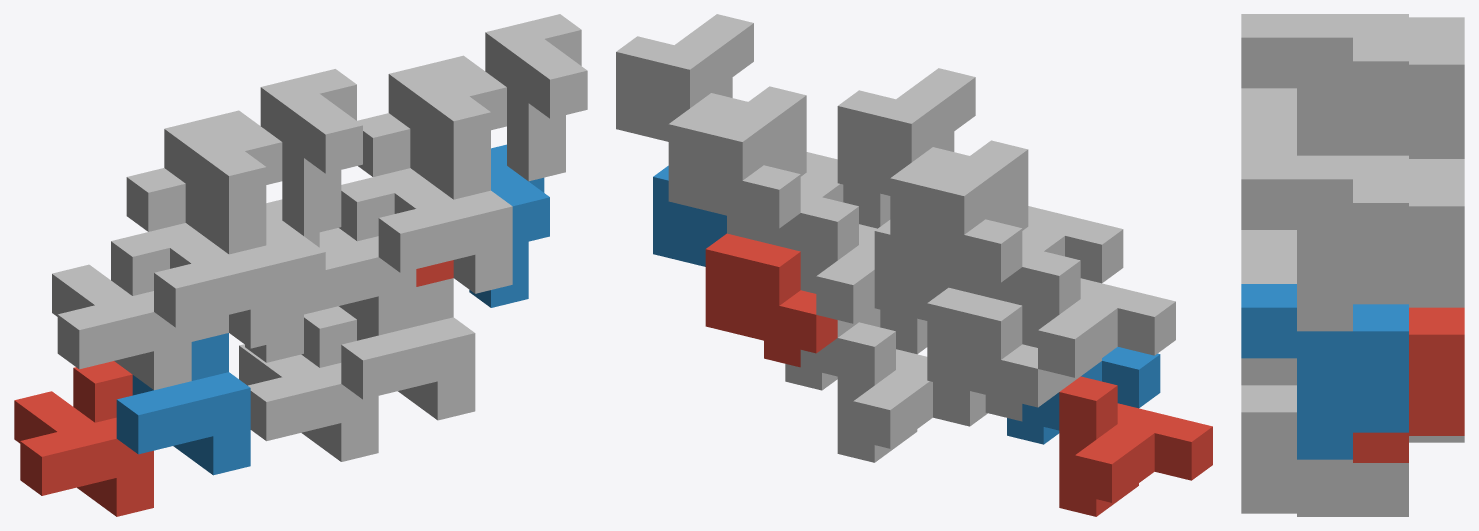
Rendered from tiling.obj.
The picture shows the model from 3 angles, left to right: view 1: azimuth 30°, elevation 25°; view 2: azimuth 150°, elevation 25°; view 3: azimuth 270°, elevation 25°; orthographic projection. The views are drawn at different scales.
Parts seen in each view (by area): view 1: copy_1_domain_3, copy_1_domain_1, copy_1_domain_8, copy_1_domain_4, copy_2_domain_4, copy_2_domain_8, copy_1_domain_5, copy_1_domain_6, copy_1_domain_2, copy_2_domain_3, copy_2_domain_7, copy_1_domain_7 (+4 smaller); view 2: copy_2_domain_3, copy_2_domain_7, copy_1_domain_1, copy_1_domain_3, copy_1_domain_5, copy_2_domain_4, copy_2_domain_8, copy_2_domain_5, copy_2_domain_1, copy_1_domain_7, copy_1_domain_4, copy_1_domain_2 (+4 smaller); view 3: copy_2_domain_8, copy_2_domain_4, copy_2_domain_6, copy_1_domain_6, copy_2_domain_5, copy_2_domain_7, copy_2_domain_3, copy_1_domain_8, copy_1_domain_5, copy_1_domain_4, copy_2_domain_2.
Boxes of the visible parts, left/top/right/bottom form: copy_1_domain_3: left=52, top=232, right=191, bottom=390; copy_1_domain_1: left=14, top=361, right=153, bottom=516; copy_1_domain_8: left=373, top=145, right=512, bottom=293; copy_1_domain_4: left=149, top=200, right=287, bottom=348; copy_2_domain_4: left=223, top=69, right=362, bottom=235; copy_2_domain_8: left=448, top=14, right=587, bottom=181; copy_1_domain_5: left=239, top=306, right=378, bottom=461; copy_1_domain_6: left=341, top=278, right=475, bottom=420; copy_1_domain_2: left=116, top=333, right=250, bottom=475; copy_2_domain_3: left=126, top=110, right=266, bottom=238; copy_2_domain_7: left=357, top=55, right=490, bottom=183; copy_1_domain_7: left=304, top=177, right=416, bottom=335; copy_2_domain_3: left=890, top=140, right=1028, bottom=296; copy_2_domain_7: left=668, top=86, right=806, bottom=242; copy_1_domain_1: left=1059, top=376, right=1212, bottom=516; copy_1_domain_3: left=1022, top=251, right=1175, bottom=391; copy_1_domain_5: left=837, top=322, right=987, bottom=462; copy_2_domain_4: left=837, top=68, right=975, bottom=195; copy_2_domain_8: left=616, top=14, right=753, bottom=141; copy_2_domain_5: left=705, top=233, right=837, bottom=367; copy_2_domain_1: left=927, top=287, right=1059, bottom=421; copy_1_domain_7: left=800, top=197, right=877, bottom=337; copy_1_domain_4: left=985, top=188, right=1123, bottom=305; copy_1_domain_2: left=1007, top=347, right=1160, bottom=444; copy_2_domain_8: left=1241, top=155, right=1408, bottom=331; copy_2_domain_4: left=1241, top=14, right=1408, bottom=155; copy_2_domain_6: left=1241, top=284, right=1408, bottom=459; copy_1_domain_6: left=1241, top=385, right=1352, bottom=513; copy_2_domain_5: left=1353, top=307, right=1464, bottom=462; copy_2_domain_7: left=1409, top=159, right=1464, bottom=307; copy_2_domain_3: left=1409, top=17, right=1464, bottom=158; copy_1_domain_8: left=1241, top=230, right=1296, bottom=385; copy_1_domain_5: left=1297, top=436, right=1464, bottom=516; copy_1_domain_4: left=1241, top=88, right=1296, bottom=142; copy_2_domain_2: left=1241, top=142, right=1296, bottom=155.
Size of the model in its own units: 15 by 9 by 4.
